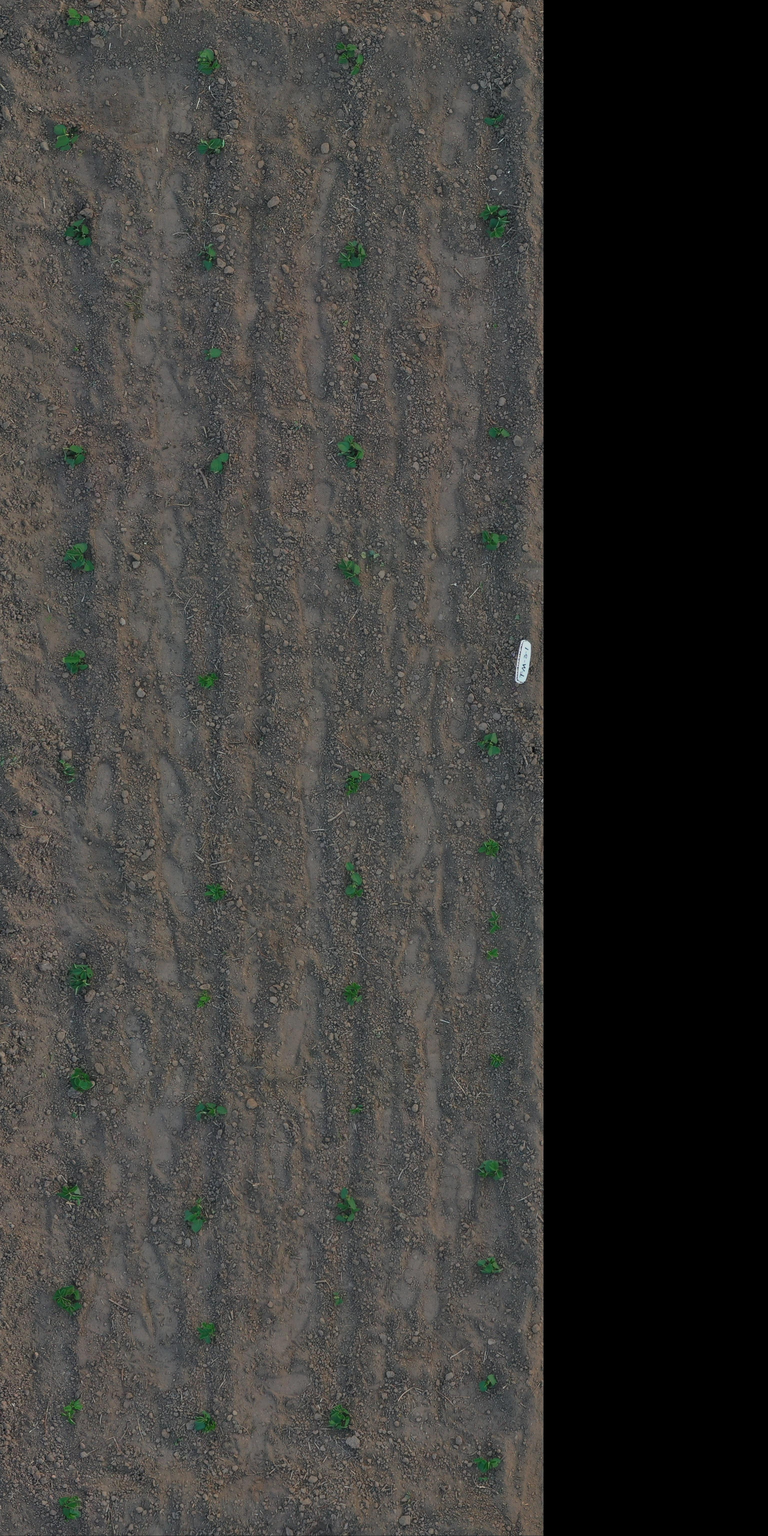s: (56, 1183, 85, 1206), (66, 542, 88, 570), (53, 124, 77, 148), (184, 1210, 205, 1233), (64, 650, 88, 670), (336, 251, 362, 269), (342, 564, 362, 587), (64, 217, 86, 237), (210, 452, 229, 474), (53, 1286, 72, 1308), (64, 445, 82, 468), (197, 138, 221, 155), (69, 963, 93, 980), (489, 209, 510, 228), (198, 48, 214, 72), (340, 1186, 356, 1210), (336, 1199, 361, 1214), (479, 203, 501, 220), (60, 134, 80, 152), (346, 448, 364, 468), (200, 59, 221, 76), (479, 1457, 501, 1473), (77, 224, 92, 247), (486, 911, 501, 934), (342, 435, 362, 452), (71, 979, 91, 996), (482, 530, 508, 543), (486, 732, 500, 756), (345, 862, 361, 883), (194, 1410, 210, 1431), (478, 1374, 496, 1392), (345, 876, 362, 895), (205, 1102, 228, 1116), (70, 1078, 93, 1092), (70, 1068, 91, 1083), (350, 54, 364, 76), (206, 138, 224, 155), (477, 1160, 494, 1178), (61, 1405, 76, 1425), (483, 114, 504, 128), (485, 224, 506, 238), (59, 1496, 80, 1510), (337, 441, 355, 457), (196, 1326, 211, 1345), (62, 1302, 82, 1316), (349, 770, 372, 782), (74, 445, 87, 466), (327, 1417, 348, 1430), (476, 734, 493, 750), (337, 49, 355, 64), (203, 882, 222, 896), (330, 1404, 349, 1418), (195, 1102, 208, 1122), (482, 532, 500, 546), (345, 776, 359, 794), (197, 243, 216, 256), (203, 348, 222, 361), (62, 1507, 81, 1520), (488, 427, 510, 438), (356, 242, 367, 264), (79, 557, 95, 572), (64, 1285, 80, 1300), (342, 240, 358, 255), (202, 256, 216, 272), (204, 672, 218, 688), (338, 558, 355, 571), (190, 1197, 203, 1214), (477, 1259, 494, 1272), (334, 1212, 356, 1222), (196, 995, 212, 1008), (346, 982, 362, 995), (489, 1162, 502, 1178), (334, 42, 357, 51), (74, 1076, 88, 1090), (486, 1256, 500, 1270), (209, 888, 224, 901), (201, 1322, 216, 1335), (196, 674, 209, 688), (343, 988, 356, 1002), (70, 1399, 84, 1412), (346, 888, 364, 898), (337, 1414, 350, 1427), (67, 7, 81, 19), (69, 974, 83, 986), (348, 994, 362, 1006), (477, 842, 491, 854), (75, 15, 90, 26), (490, 1053, 501, 1068), (196, 50, 209, 62), (486, 948, 499, 960), (485, 846, 499, 857), (484, 838, 499, 848), (349, 1104, 364, 1114), (333, 1291, 343, 1306), (58, 759, 74, 768), (480, 1268, 504, 1274), (66, 17, 80, 27), (65, 652, 72, 672), (63, 552, 77, 562), (344, 784, 353, 797), (485, 543, 498, 551), (62, 768, 75, 776), (479, 1160, 492, 1168), (473, 1456, 486, 1464), (68, 1495, 82, 1502), (71, 664, 80, 674), (199, 990, 209, 998), (205, 1416, 210, 1431), (216, 887, 222, 899), (212, 1420, 217, 1431), (478, 1477, 489, 1482), (69, 127, 78, 132), (498, 1055, 504, 1062), (210, 1422, 214, 1432), (222, 889, 227, 896)
